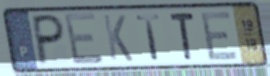E: (61, 11, 106, 68), (199, 9, 241, 63)
K: (101, 13, 136, 64)
P: (32, 13, 67, 68)
T: (167, 11, 197, 62), (134, 12, 163, 62)
